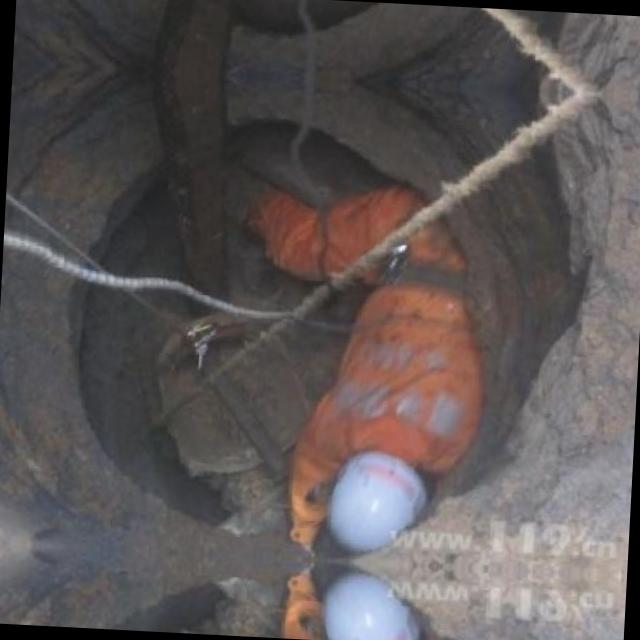helmet: (322, 446, 434, 556), (317, 571, 429, 640)
